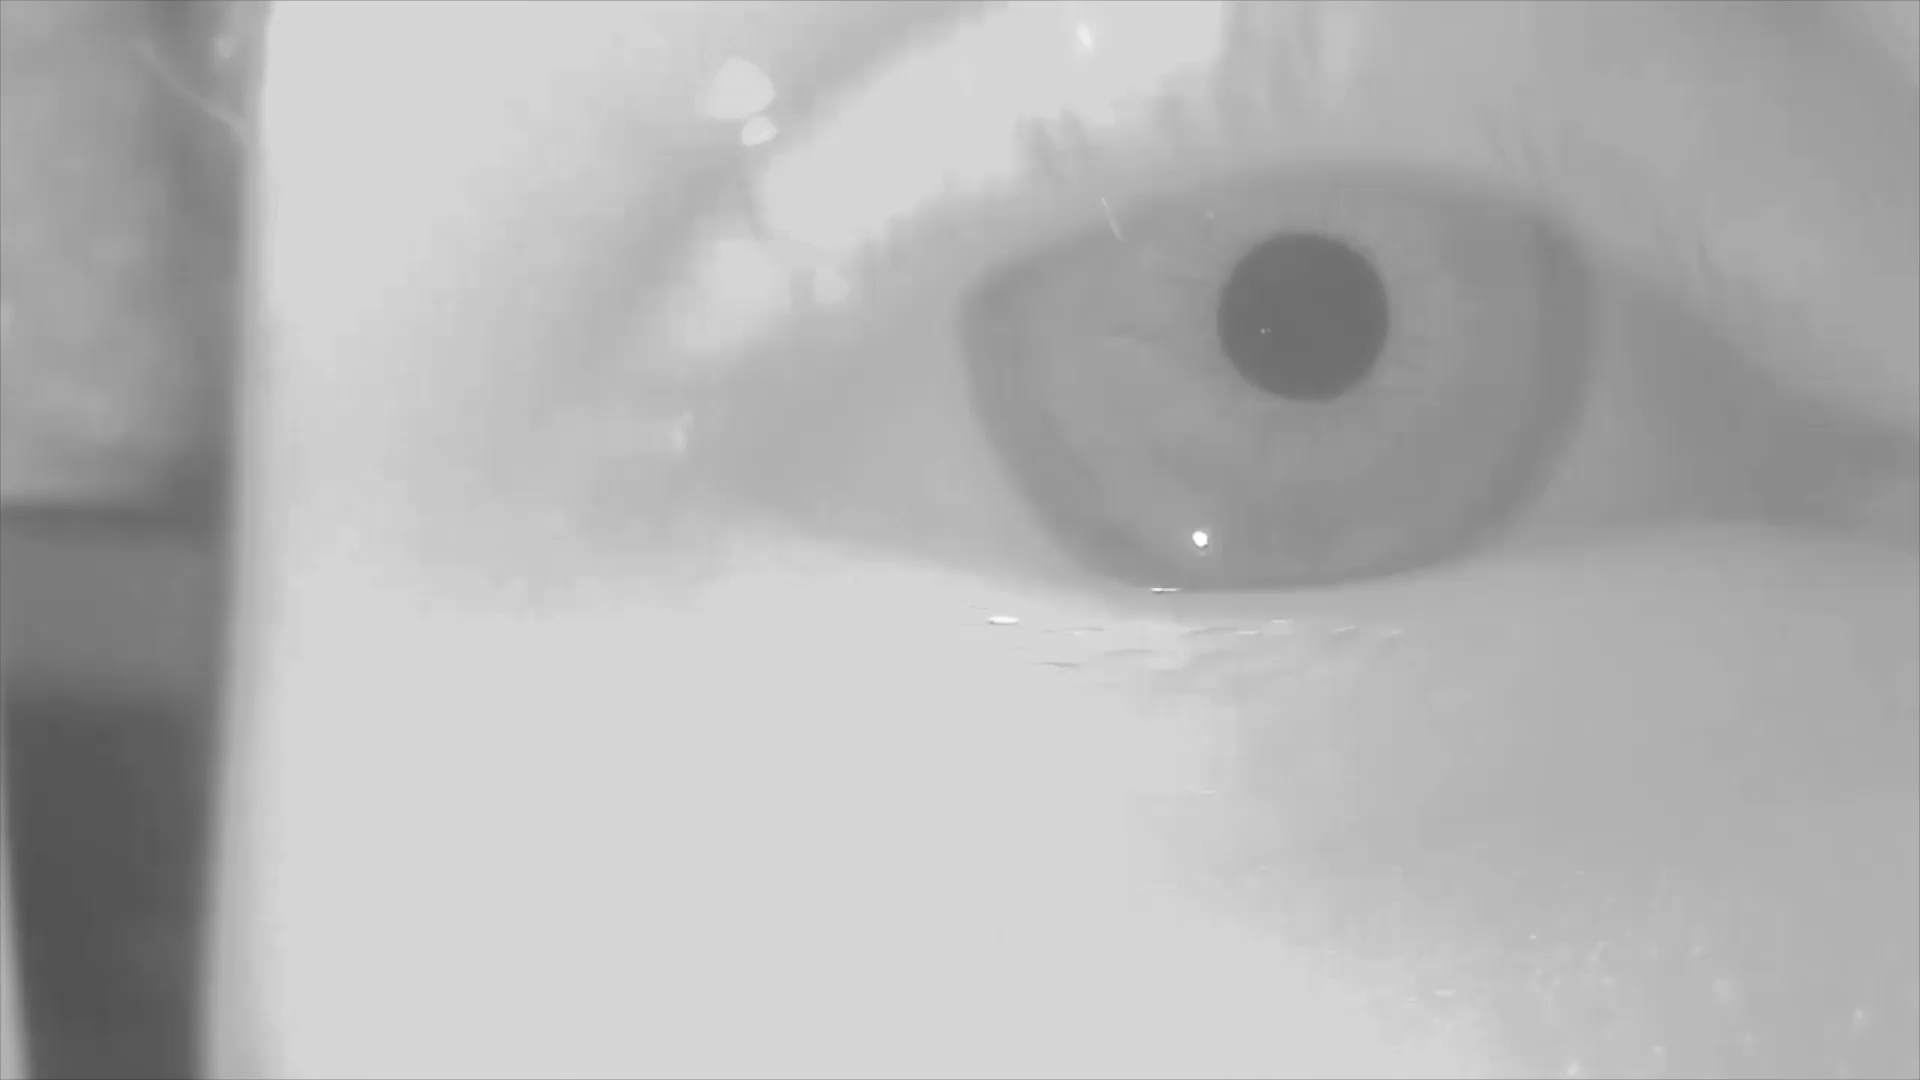pupil: (1221, 228, 1390, 408)
